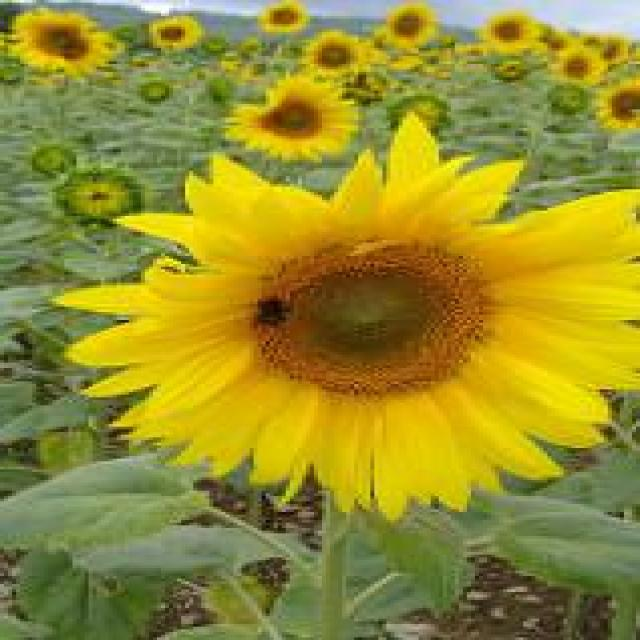sunflower: (92, 125, 640, 511), (222, 79, 362, 156), (4, 4, 113, 73), (378, 2, 447, 50), (306, 25, 370, 71), (477, 12, 545, 52), (545, 46, 610, 86), (587, 79, 640, 125), (139, 16, 207, 51), (253, 0, 310, 29)
